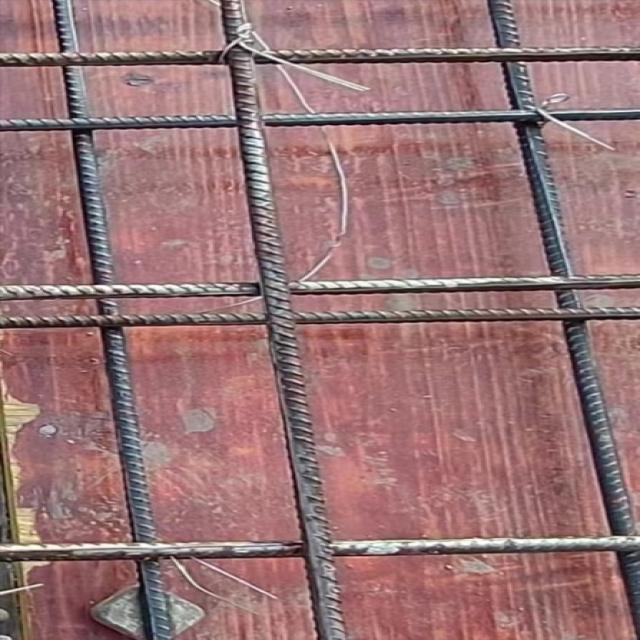ribbed bar: (484, 0, 637, 638), (211, 0, 349, 638), (46, 0, 173, 638), (0, 273, 637, 302), (0, 533, 637, 562), (0, 105, 637, 133), (0, 305, 637, 330), (0, 42, 637, 66)
